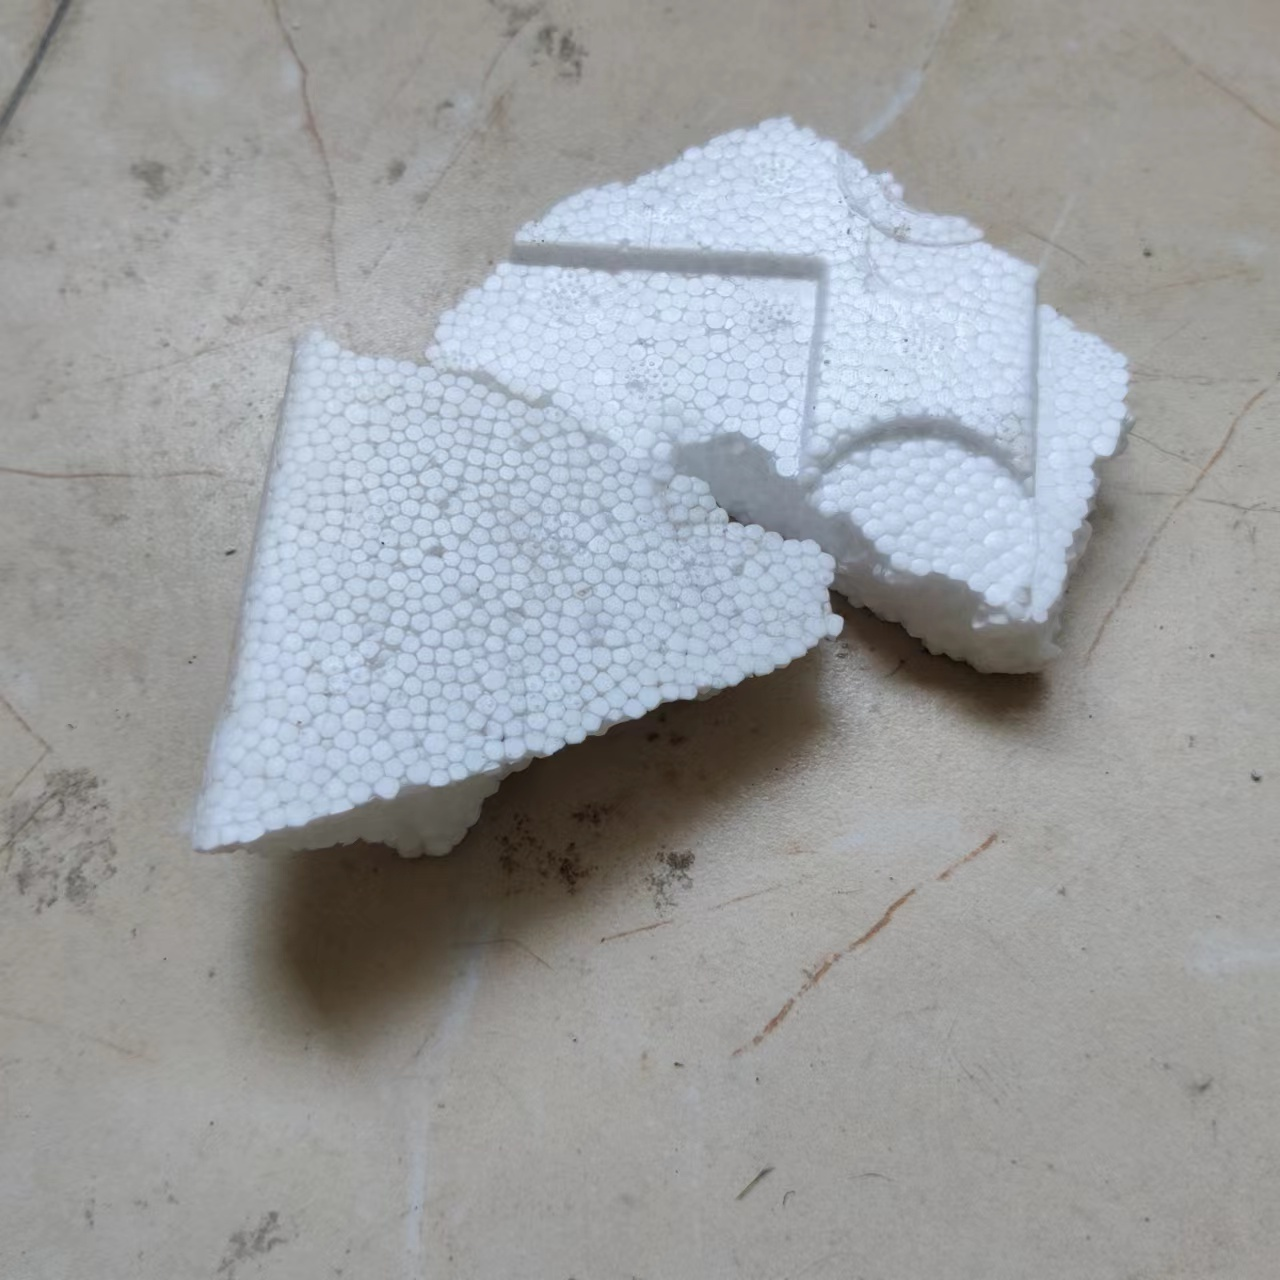5/可回收垃圾/泡沫: (420, 114, 1133, 678), (184, 331, 845, 862)
